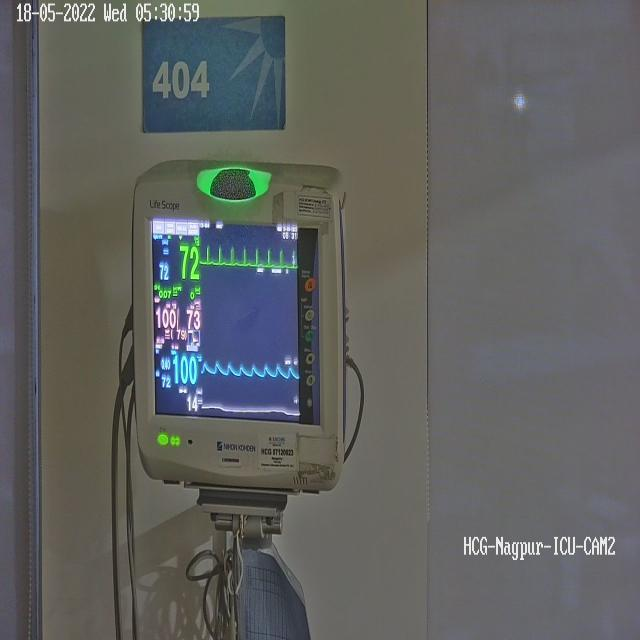Monitor: (130, 158, 348, 570)
